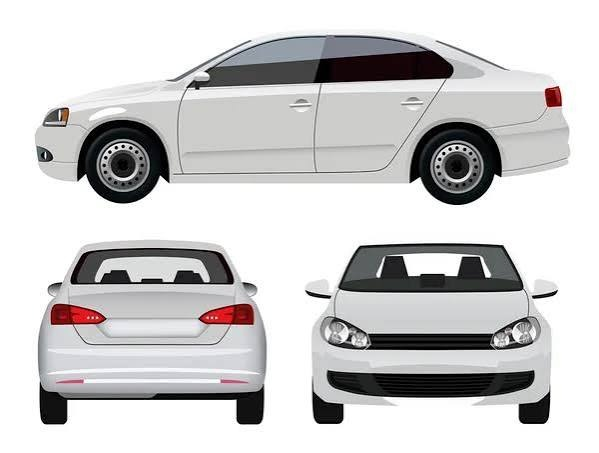car: (9, 45, 588, 354), (36, 33, 577, 205), (55, 232, 467, 428), (304, 239, 551, 425), (36, 240, 262, 424)
